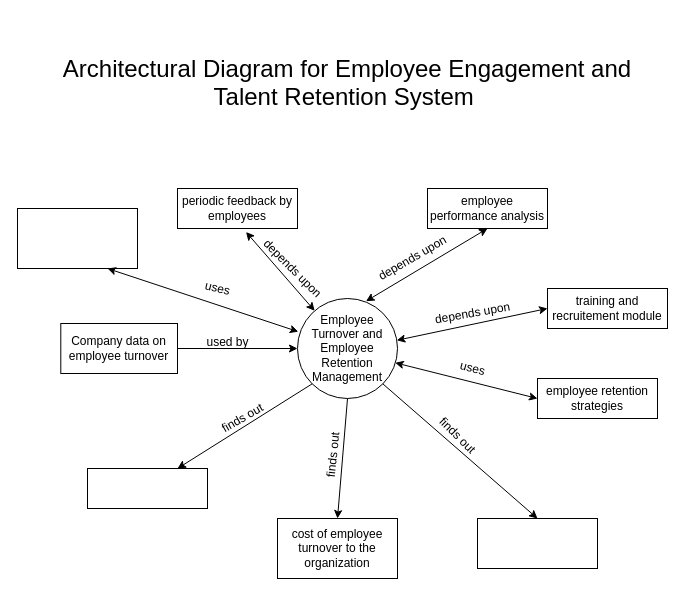
This 685x596 diagram has some shape labels left out. The centre of each missing label's shape, as x and y in pixels:
avoidable turnovers: point (147, 488)
cost of recruitment and training of new employees: point (537, 543)
employee counselling: point (77, 238)
